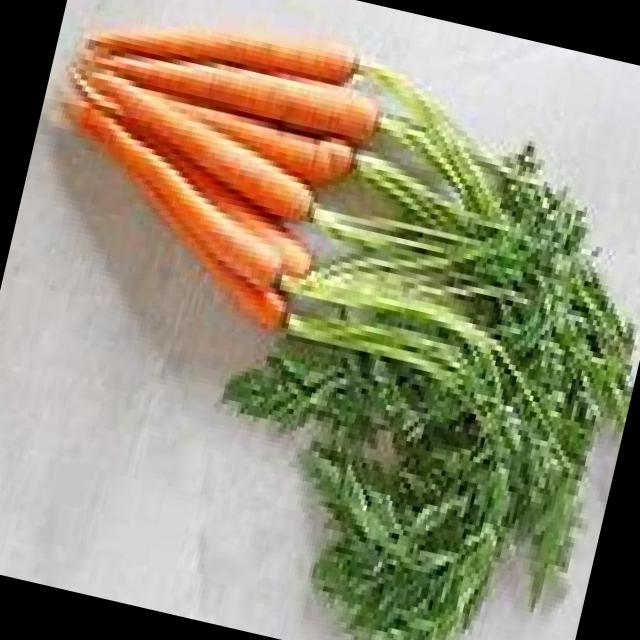carrot: (75, 100, 281, 280), (85, 75, 312, 231), (88, 58, 383, 136), (95, 32, 355, 77)
